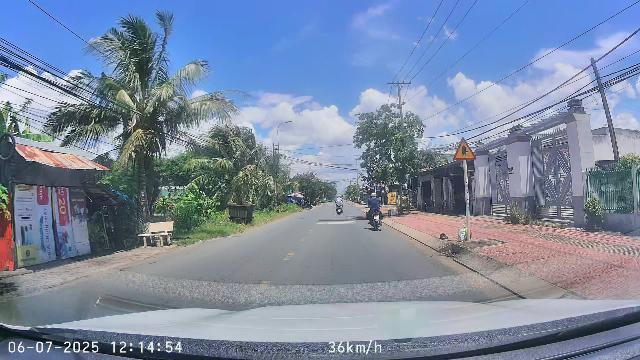207-giao-nhau-voi-duong-khong-uu-tien: (453, 138, 477, 160)
